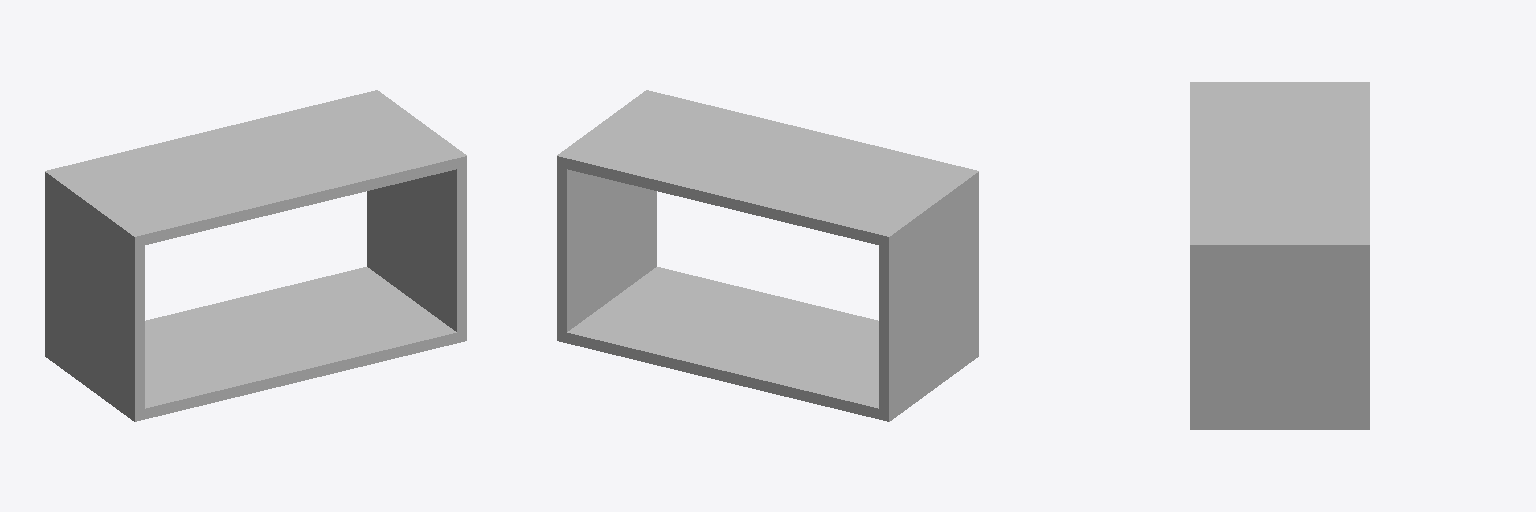
The model's file is controlRoom.obj.
3 renders of one model, left to right at view 1: azimuth 30°, elevation 25°; view 2: azimuth 150°, elevation 25°; view 3: azimuth 270°, elevation 25°, orthographic.
Parts seen in each view (by area): view 1: control_room1 ship_v4 ship; view 2: control_room1 ship_v4 ship; view 3: control_room1 ship_v4 ship.
Part boxes in pixels (x1,y1,x2,y2): control_room1 ship_v4 ship: (45, 90, 466, 421); control_room1 ship_v4 ship: (557, 90, 978, 421); control_room1 ship_v4 ship: (1190, 82, 1369, 429).
Bounding box in the file's own units: 12.8 × 6.8 × 6.